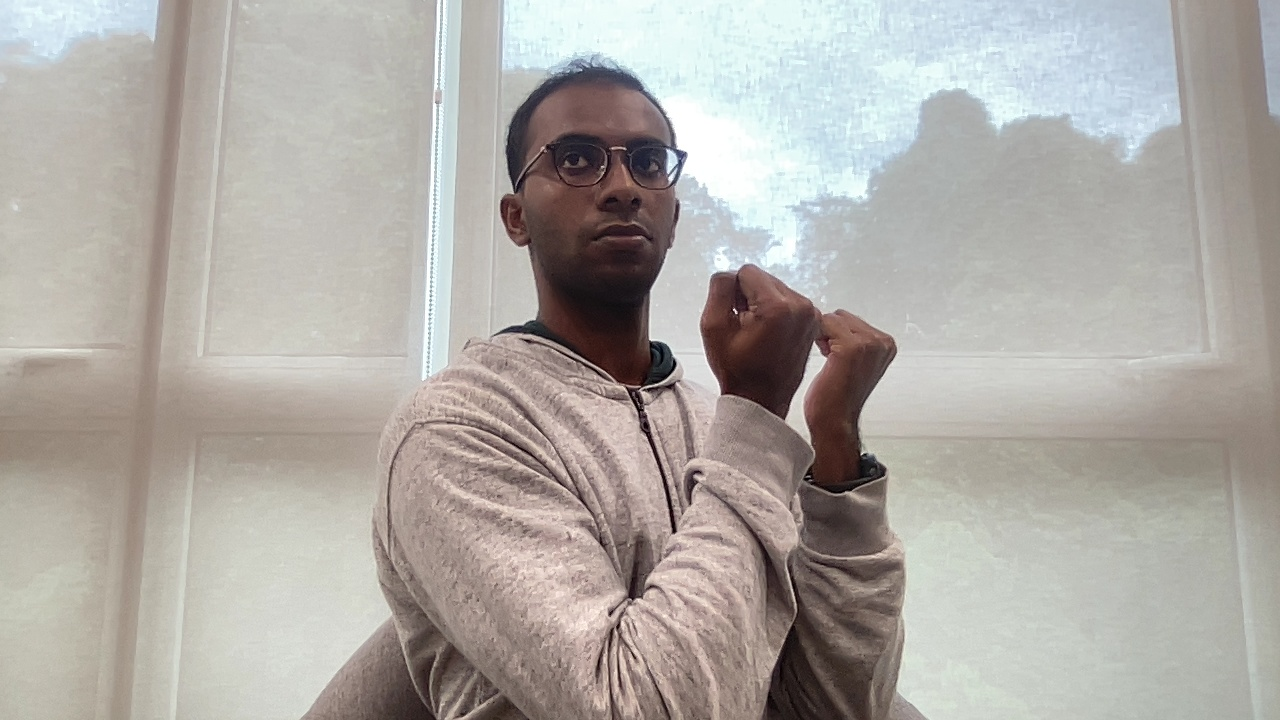finish: (695, 264, 907, 467)
